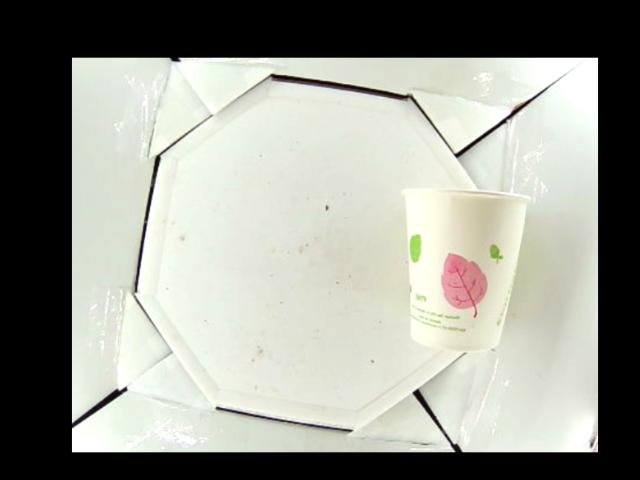Cup: (403, 185, 529, 352)
